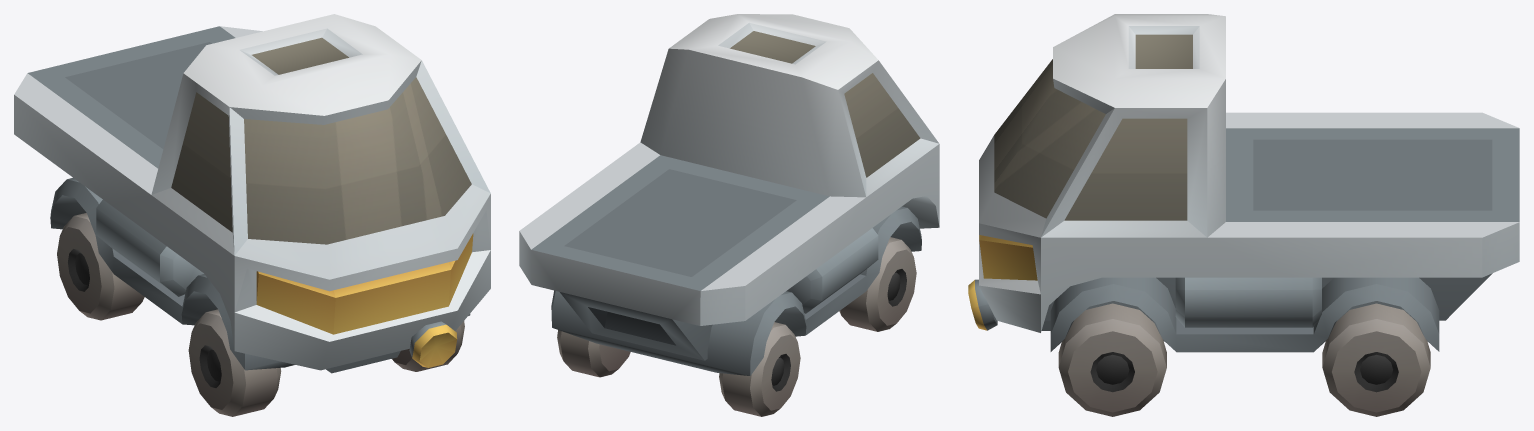
The model's file is Space Truck.glb.
3 renders of one model, left to right at view 1: azimuth 30°, elevation 25°; view 2: azimuth 150°, elevation 25°; view 3: azimuth 270°, elevation 25°, orthographic. The views are drawn at different scales.
Parts seen in each view (by area): view 1: spacetruck, spacetruck_wheel_front_right, spacetruck_wheel_rear_right, spacetruck_wheel_front_left; view 2: spacetruck, spacetruck_wheel_rear_right, spacetruck_wheel_front_right, spacetruck_wheel_rear_left; view 3: spacetruck, spacetruck_wheel_front_left, spacetruck_wheel_rear_left.
Part boxes in pixels (x1,y1,x2,y2): spacetruck: (14,14,490,373); spacetruck_wheel_front_right: (188,309,281,416); spacetruck_wheel_rear_right: (57,213,144,320); spacetruck_wheel_front_left: (392,321,464,371); spacetruck: (519,14,939,375); spacetruck_wheel_rear_right: (719,322,800,416); spacetruck_wheel_front_right: (839,237,916,331); spacetruck_wheel_rear_left: (557,330,630,377); spacetruck: (968,14,1519,352); spacetruck_wheel_front_left: (1058,303,1166,416); spacetruck_wheel_rear_left: (1322,303,1430,416).
Bounding box in the file's own units: 0.4895 × 0.5662 × 0.8933.
1 material, 1 textured.
